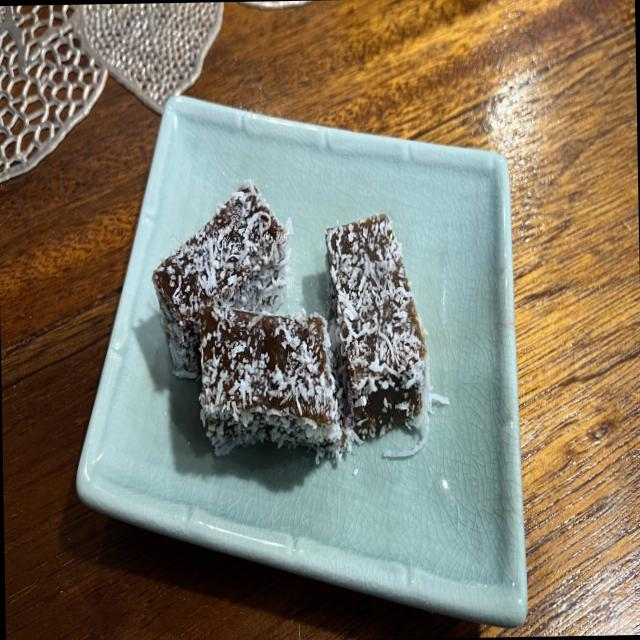kaswi: (152, 179, 292, 378), (325, 214, 430, 439), (200, 306, 342, 456)
